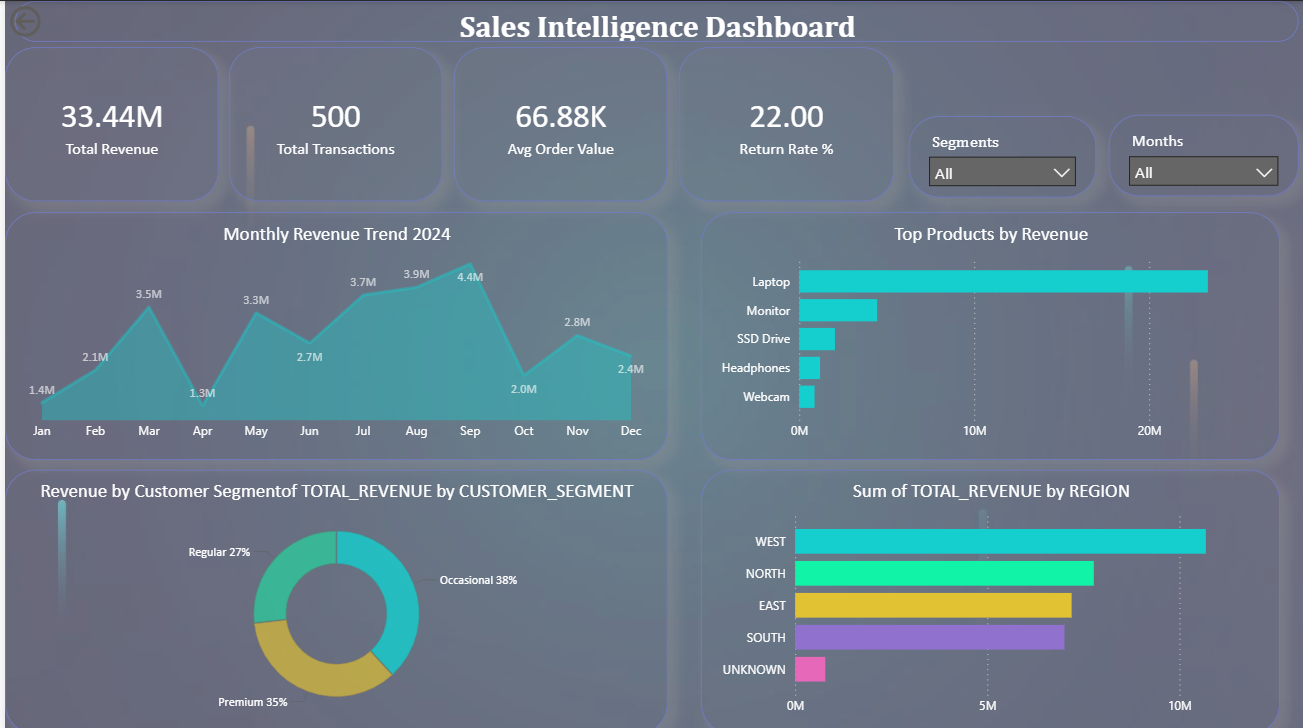

What the dashboard file says about the page in this screenshot:
{"tool":"powerbi","page":{"name":"Executive Summary","canvas":[1280,720],"ordinal":0},"visuals":[{"type":"textbox","title":"Sales Intelligence Dashboard","box":[9.8,0,1260.1,40],"z":0},{"type":"card","fields":{"Values":["FACT_SALES.Total Revenue"]},"box":[0,45.3,209.9,150.9],"z":1000},{"type":"actionButton","box":[0,0,100,40],"z":2000},{"type":"card","fields":{"Values":["FACT_SALES.Avg Order Value"]},"box":[440.5,45.4,209.8,150.9],"z":3000},{"type":"card","fields":{"Values":["FACT_SALES.Return Rate %"]},"box":[661.4,45.4,211,150.9],"z":4000},{"type":"card","fields":{"Values":["FACT_SALES.Total Transactions"]},"box":[219.6,45.4,209.8,150.9],"z":5000},{"type":"areaChart","title":"Monthly Revenue Trend 2024","fields":{"Y":["Sum(MONTHLY_REVENUE.TOTAL_REVENUE)"],"Category":["MONTHLY_REVENUE.TXN_MONTH_NAME"]},"box":[0,207.4,650.3,242.9],"z":6000},{"type":"clusteredBarChart","title":"Top Products by Revenue","fields":{"Category":["PRODUCT_PERFORMANCE.PRODUCT_NAME"],"Y":["Sum(PRODUCT_PERFORMANCE.TOTAL_REVENUE)"]},"box":[683.4,207.4,568.1,242.9],"z":7000},{"type":"donutChart","title":"Revenue by Customer Segmentof TOTAL_REVENUE by CUSTOMER_SEGMENT","fields":{"Category":["CUSTOMER_SEGMENT_SUMMARY.CUSTOMER_SEGMENT"],"Y":["Sum(CUSTOMER_SEGMENT_SUMMARY.TOTAL_REVENUE)"]},"box":[0,460.1,650.3,260.1],"z":8000},{"type":"clusteredBarChart","fields":{"Category":["REGIONAL_PERFORMANCE.REGION"],"Y":["Sum(REGIONAL_PERFORMANCE.TOTAL_REVENUE)"]},"box":[683.4,460.1,568.1,260.1],"z":9000},{"type":"slicer","title":"Segments","fields":{"Values":["FACT_SALES.CUSTOMER_SEGMENT"]},"box":[887.1,112.9,184.1,79.8],"z":10000},{"type":"slicer","title":"Segments","fields":{"Values":["FACT_SALES.TXN_MONTH_NAME"]},"box":[1083.4,111.7,186.5,79.8],"z":11000}]}

Visuals, with their boxes in screenshot pixels (x1, y1, x2, y2), scaled from the page's 1280x720 canvas onto the 1303x728 screenshot:
"Sales Intelligence Dashboard" textbox: (left=10, top=0, right=1293, bottom=40)
card - FACT_SALES.Total Revenue: (left=0, top=46, right=214, bottom=198)
actionButton: (left=0, top=0, right=102, bottom=40)
card - FACT_SALES.Avg Order Value: (left=448, top=46, right=662, bottom=198)
card - FACT_SALES.Return Rate %: (left=673, top=46, right=888, bottom=198)
card - FACT_SALES.Total Transactions: (left=224, top=46, right=437, bottom=198)
"Monthly Revenue Trend 2024" areaChart: (left=0, top=210, right=662, bottom=455)
"Top Products by Revenue" clusteredBarChart: (left=696, top=210, right=1274, bottom=455)
"Revenue by Customer Segmentof TOTAL_REVENUE by CUSTOMER_SEGMENT" donutChart: (left=0, top=465, right=662, bottom=727)
clusteredBarChart - REGIONAL_PERFORMANCE.REGION x Sum(REGIONAL_PERFORMANCE.TOTAL_REVENUE): (left=696, top=465, right=1274, bottom=727)
"Segments" slicer: (left=903, top=114, right=1090, bottom=195)
"Segments" slicer: (left=1103, top=113, right=1293, bottom=194)
